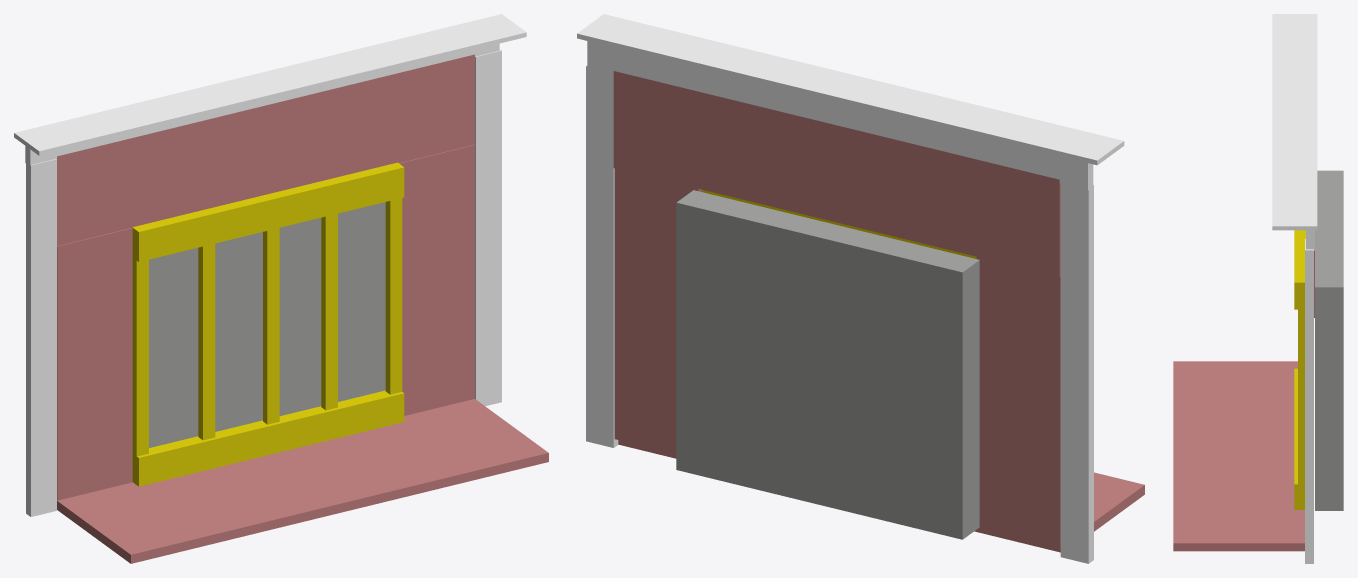
Rendered from co-fireplace2.glb.
The picture shows the model from 3 angles, left to right: view 1: azimuth 30°, elevation 25°; view 2: azimuth 150°, elevation 25°; view 3: azimuth 270°, elevation 25°; orthographic projection. The views are drawn at different scales.
Parts seen in each view (by area): view 1: top_section, gray, hearth, left_sdie, right_side, mantle, left_white_trim, top_brass, bottom_brass, right_white_trim, right_brass, left_quarter_brass (+4 smaller); view 2: gray, top_section, left_sdie, right_side, mantle, left_white_trim, top_white_trim, right_white_trim, hearth, top_brass; view 3: hearth, mantle, gray, right_white_trim, right_brass, top_brass, bottom_brass.
Boxes of the visible parts, x1,y1,x2,y2 form: top_section: (57, 54, 474, 245); gray: (149, 202, 385, 447); hearth: (57, 399, 548, 563); left_sdie: (57, 228, 132, 500); right_side: (399, 144, 474, 415); mantle: (14, 14, 526, 155); left_white_trim: (26, 159, 56, 516); top_brass: (132, 162, 404, 261); bottom_brass: (132, 390, 404, 486); right_white_trim: (475, 49, 501, 406); right_brass: (385, 198, 402, 394); left_quarter_brass: (198, 243, 215, 440); gray: (676, 190, 979, 539); top_section: (613, 71, 1060, 276); left_sdie: (976, 257, 1060, 547); right_side: (614, 168, 701, 453); mantle: (577, 14, 1124, 165); left_white_trim: (1060, 184, 1093, 563); top_white_trim: (587, 41, 1093, 190); right_white_trim: (586, 65, 618, 447); hearth: (618, 440, 1144, 552); top_brass: (702, 189, 976, 258); hearth: (1173, 361, 1304, 551); mantle: (1272, 14, 1317, 230); gray: (1315, 170, 1343, 510); right_white_trim: (1305, 239, 1313, 563); right_brass: (1298, 309, 1304, 484); top_brass: (1294, 230, 1305, 309); bottom_brass: (1294, 368, 1304, 509).
Bounding box in the file's own units: 1.71 × 1.28 × 0.579.
